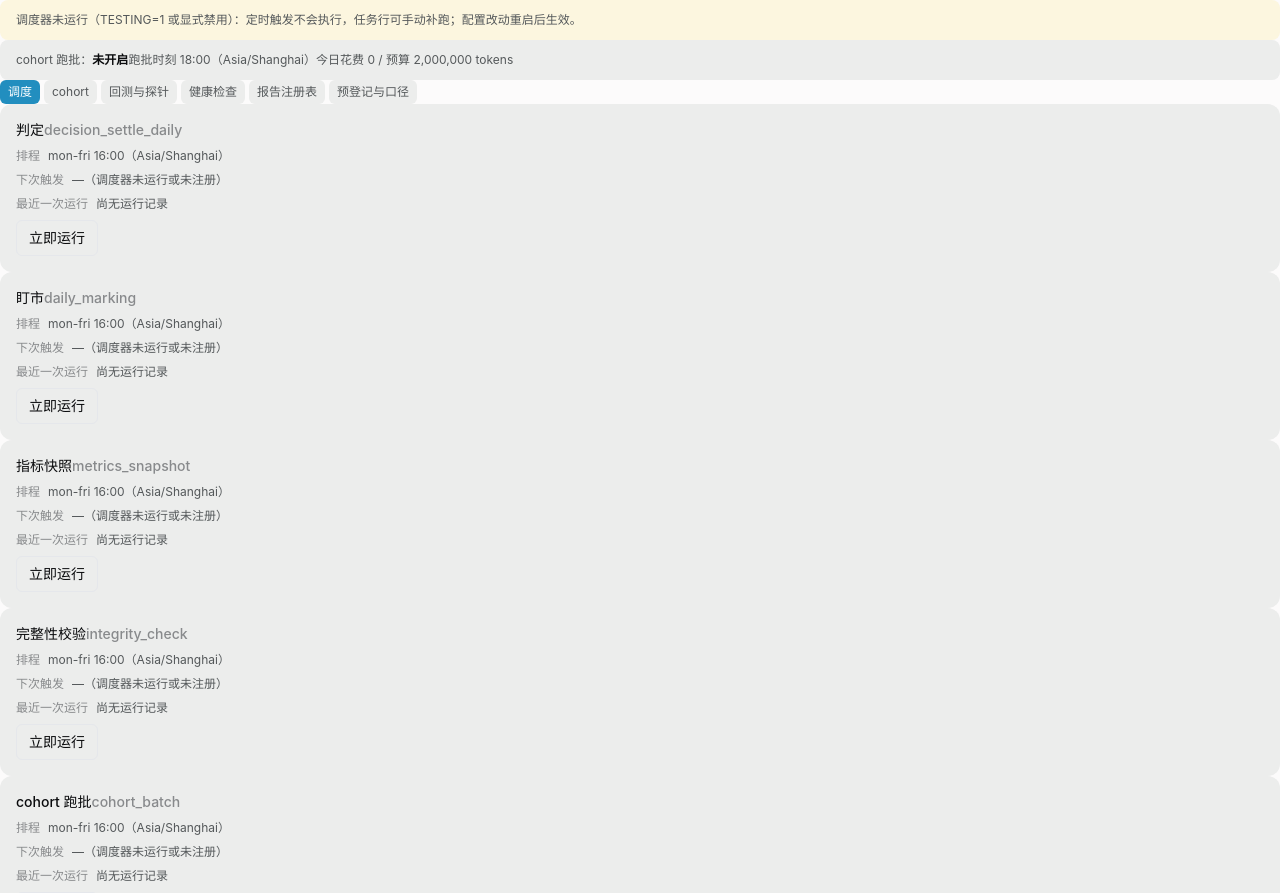
it: EvalOpsPane 评估运维分区（add-eval-ops-console Task 6） › 正式批：本地预登记无效时拒绝发起并列出缺失字段（零请求）
The width and height of the screenshot is (1280, 893).
Click the button "回测与探针" at (139,92), box [101,80,177,104]
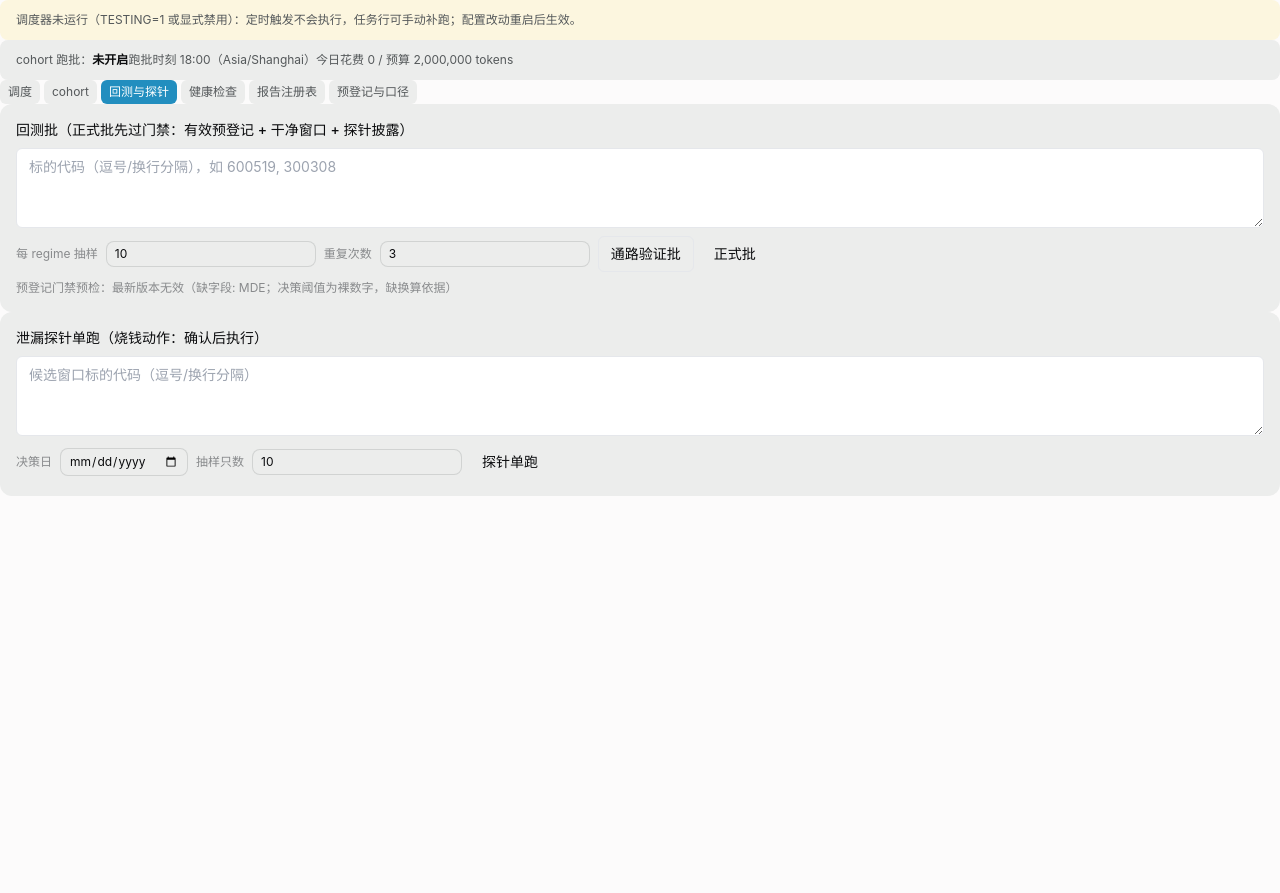
Type "600519" into the text box with test id "eval-ops-backtest-codes" at (640,188), box [16,148,1264,228]
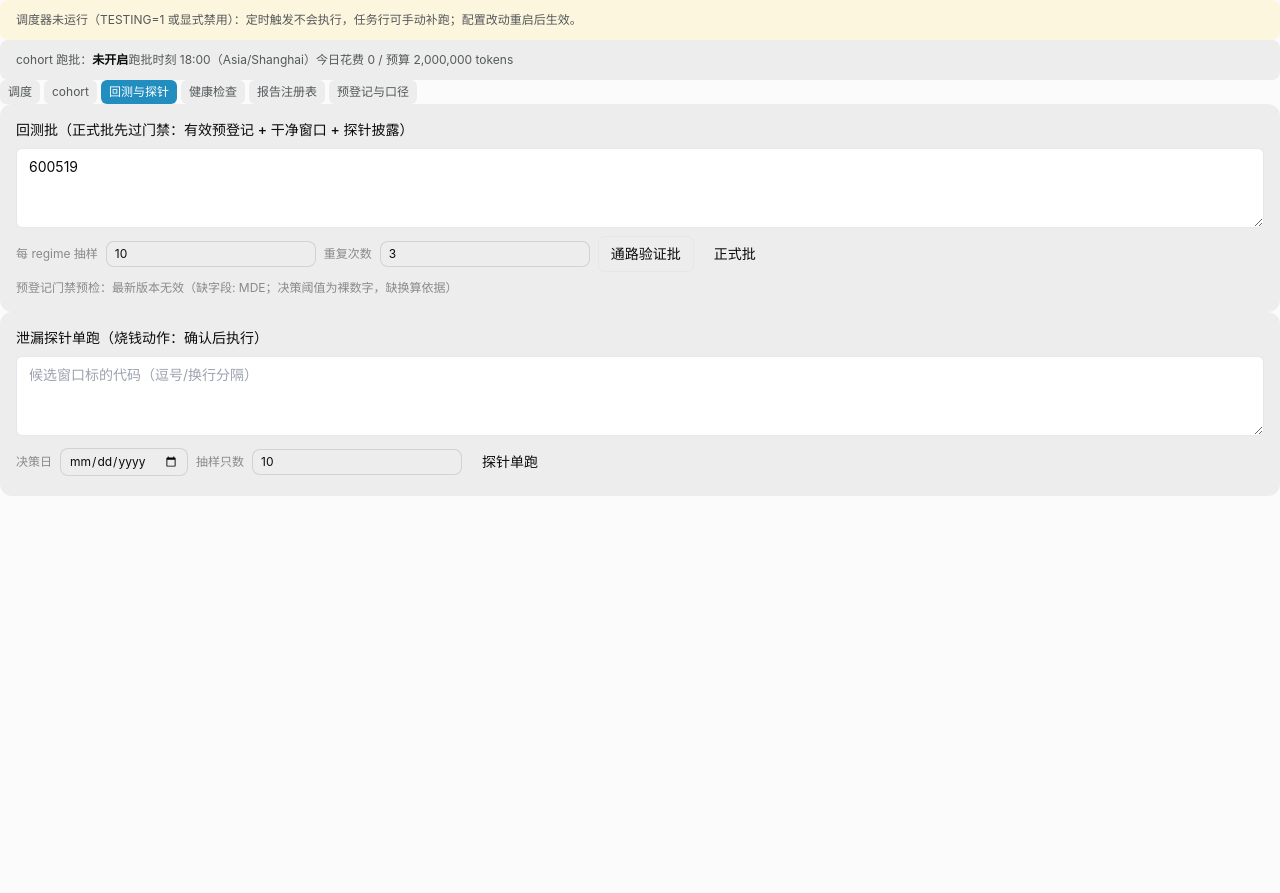
Expected: the text with test id "eval-ops-backtest-prereg" shows "无效", [16,280,458,295]
Click the button with test id "eval-ops-backtest-formal" at (735,254), box [702,236,768,272]
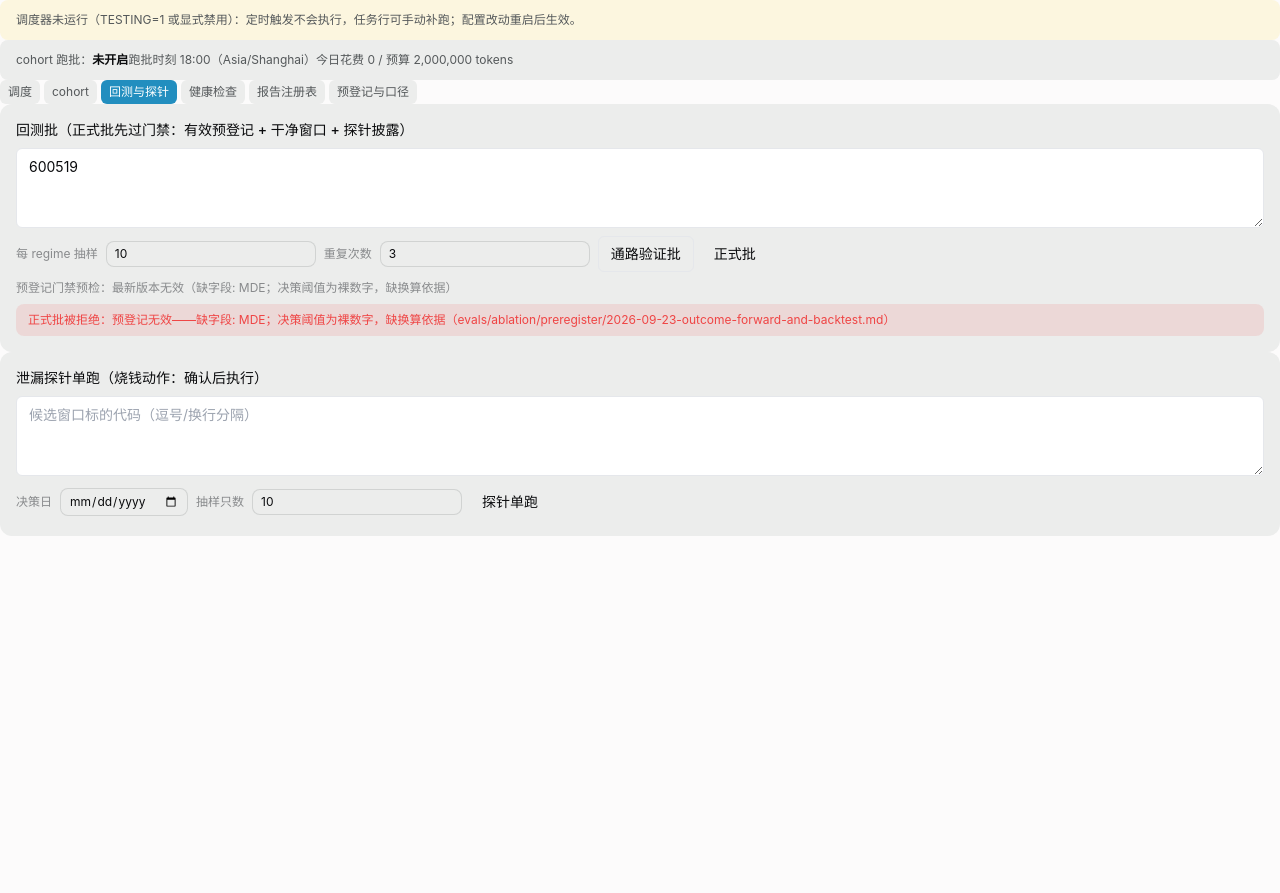
Expected: the text with test id "eval-ops-backtest-refusal" shows "MDE", [28,312,895,327]
Expected: the text with test id "eval-ops-backtest-refusal" shows "缺换算依据", [28,312,895,327]
